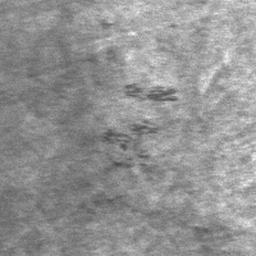Rolled in scale: (125, 83, 178, 103), (103, 129, 129, 152), (132, 120, 159, 135), (113, 158, 133, 169), (137, 150, 150, 159), (194, 227, 209, 234), (157, 38, 165, 51), (146, 211, 160, 216)
